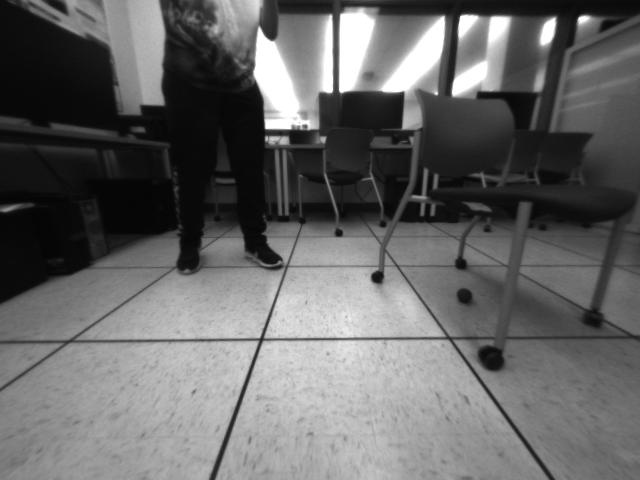dogtoy: (450, 281, 480, 310)
